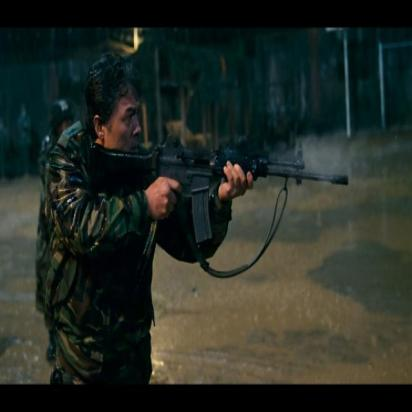Gun: (90, 139, 352, 247)
